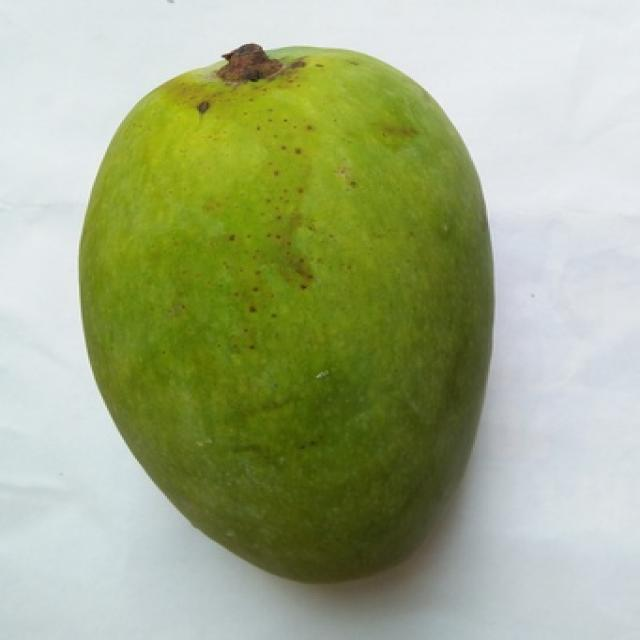Mango: (81, 49, 492, 579)
